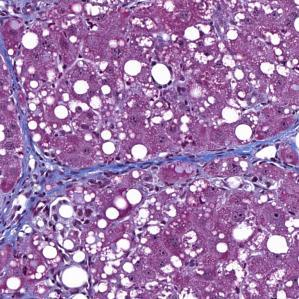fibrosis: (14, 148, 94, 206), (146, 152, 230, 174)
